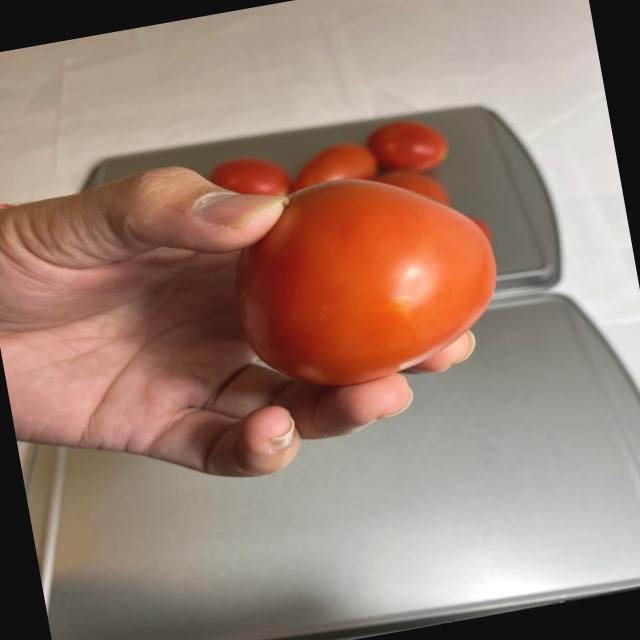tomato: (204, 108, 512, 404)
